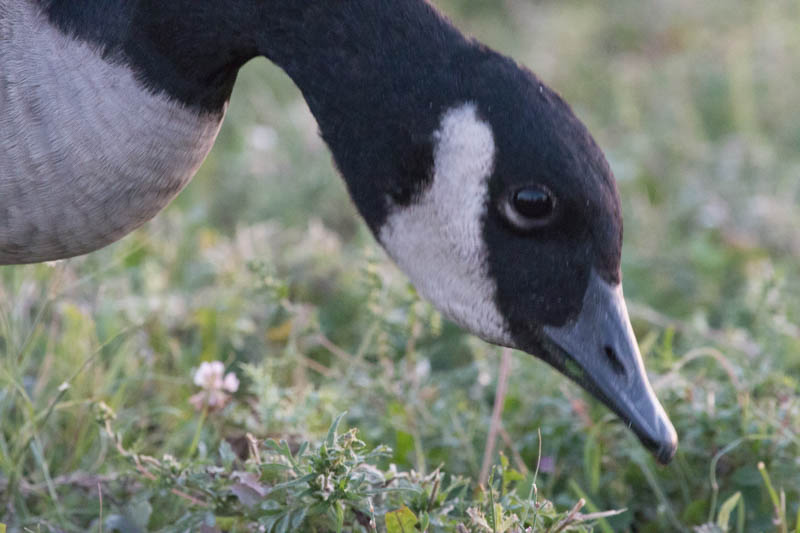goose-head: (336, 43, 679, 468)
